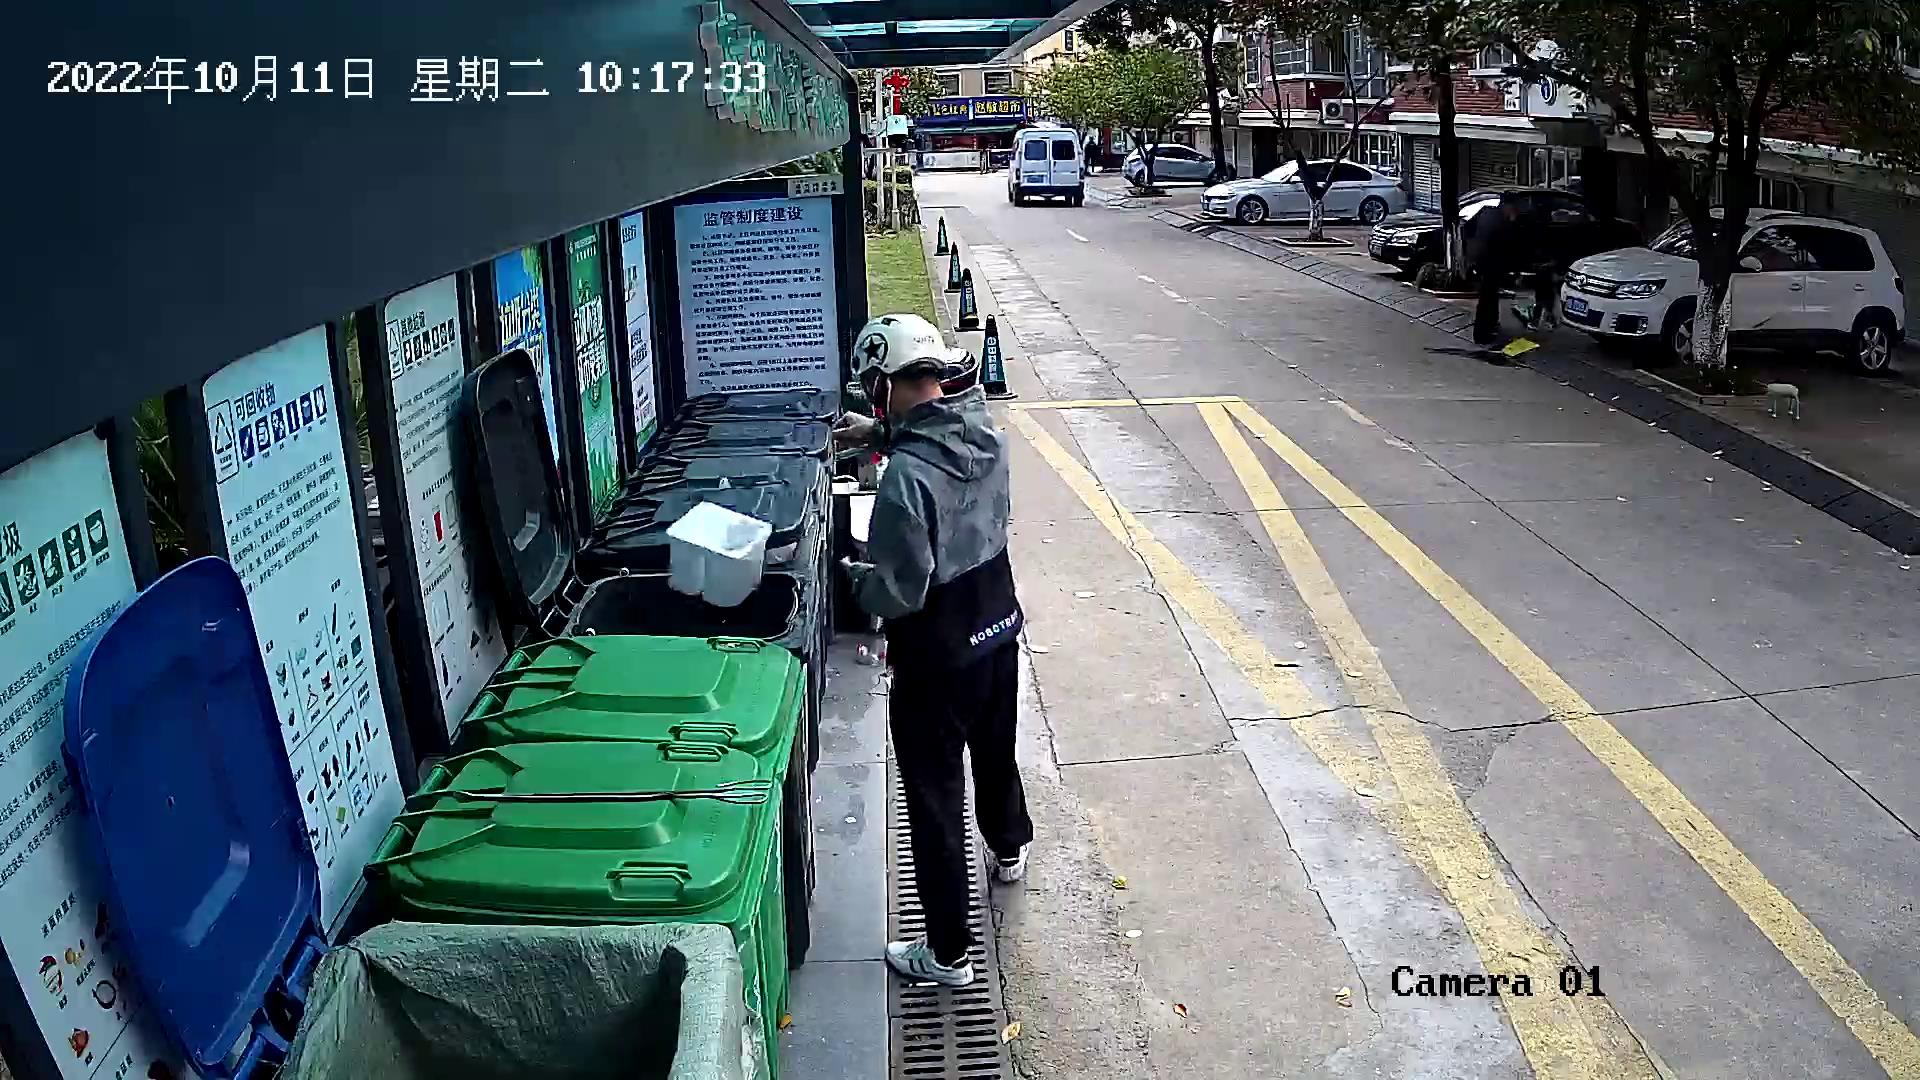person: (830, 303, 1054, 1001)
